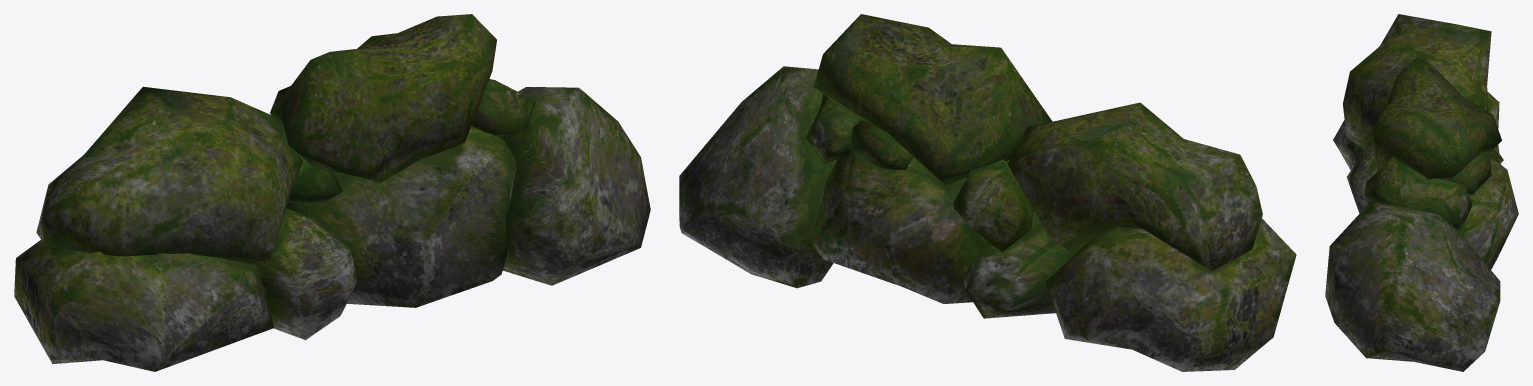
Rendered from rock_2.glb.
3 renders of one model, left to right at view 1: azimuth 30°, elevation 25°; view 2: azimuth 150°, elevation 25°; view 3: azimuth 270°, elevation 25°, orthographic. The views are drawn at different scales.
Visible parts, largest first — view 1: 8_lp, 4_lp, 9_lp, 5_lp, 1_lp, 6_lp, 2_lp, 7_lp; view 2: 8_lp, 9_lp, 4_lp, 1_lp, 5_lp, 6_lp, 7_lp, 2_lp, 3_lp; view 3: 1_lp, 4_lp, 8_lp, 2_lp, 5_lp, 6_lp, 3_lp, 9_lp.
Part boxes in pixels (box(x1,y1,x2,y2)): 8_lp: box(36, 86, 302, 265); 4_lp: box(270, 14, 496, 182); 9_lp: box(14, 240, 274, 371); 5_lp: box(286, 126, 516, 307); 1_lp: box(497, 87, 650, 285); 6_lp: box(257, 208, 358, 340); 2_lp: box(471, 79, 535, 136); 7_lp: box(288, 154, 342, 203); 8_lp: box(1007, 102, 1262, 271); 9_lp: box(1045, 218, 1296, 371); 4_lp: box(814, 14, 1052, 185); 1_lp: box(679, 66, 837, 288); 5_lp: box(812, 151, 986, 303); 6_lp: box(963, 210, 1074, 318); 7_lp: box(953, 159, 1033, 252); 2_lp: box(805, 94, 861, 165); 3_lp: box(850, 120, 913, 170); 1_lp: box(1325, 200, 1500, 371); 4_lp: box(1371, 57, 1501, 180); 8_lp: box(1343, 14, 1491, 149); 2_lp: box(1364, 156, 1472, 230); 5_lp: box(1368, 157, 1518, 269); 6_lp: box(1346, 140, 1376, 213); 3_lp: box(1449, 151, 1490, 194); 9_lp: box(1333, 91, 1500, 170).
Size of the model in its own units: 449 by 195 by 156.
Materials: 1 (1 with a texture image).
